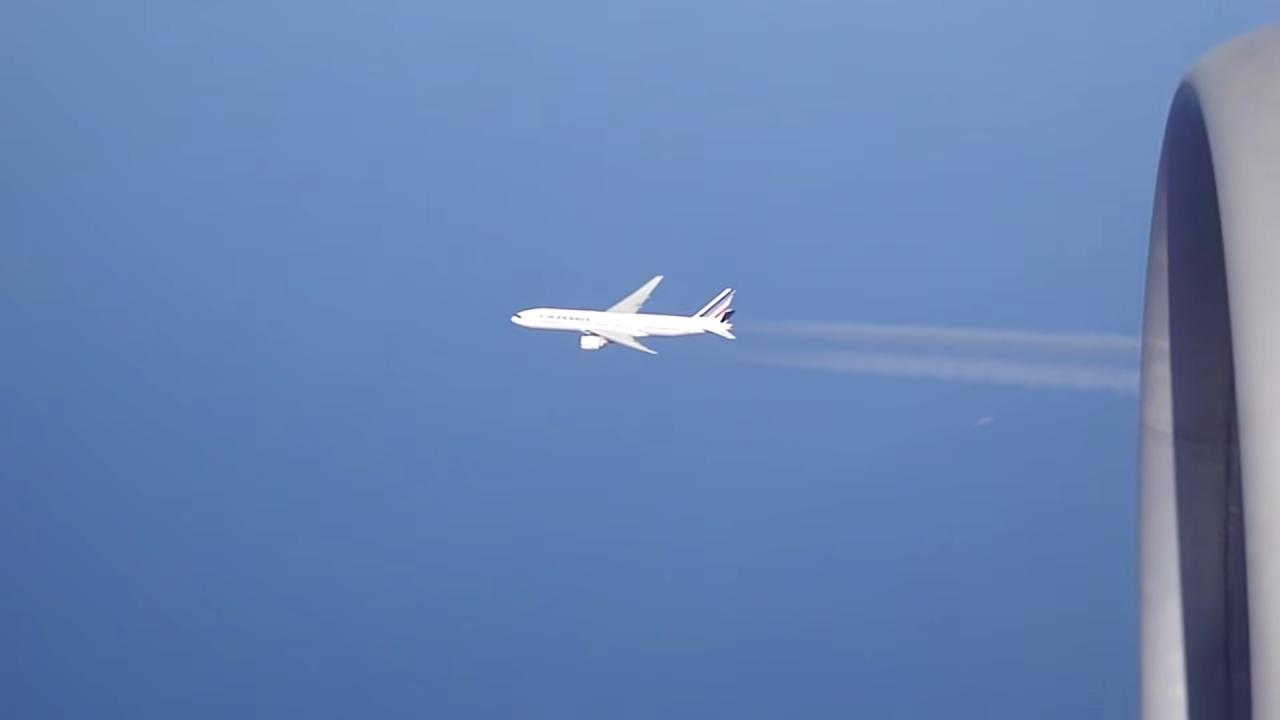Airplane: (503, 265, 745, 368)
